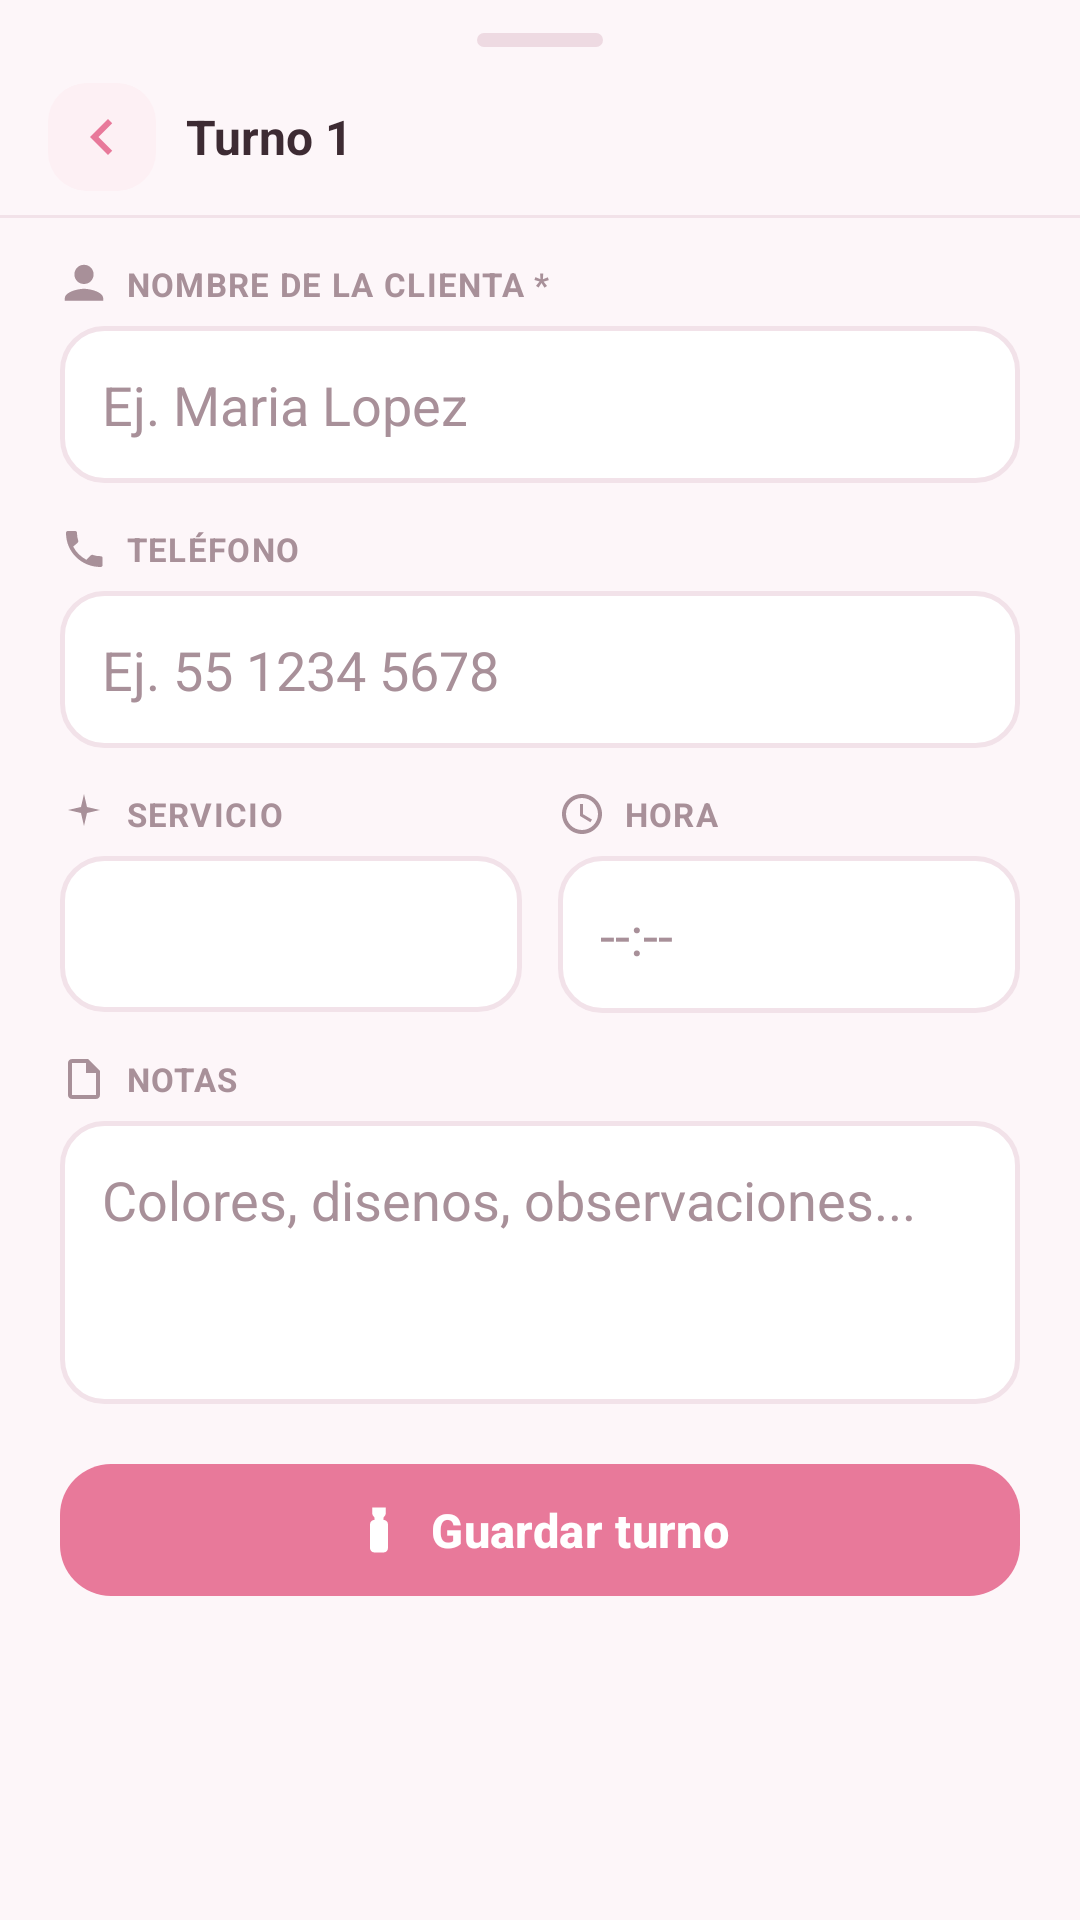

Icon click points for this 1080 x 1920 phone screenshot, format point (x, y):
clock: point (582, 814)
note: point (84, 1079)
person: point (84, 283)
phone: point (84, 549)
sparkle: point (84, 810)
Volver: point (101, 137)
